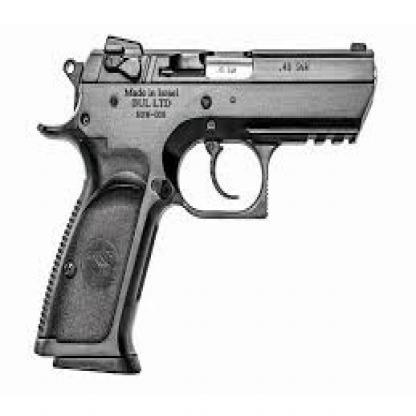Pistol: (31, 32, 374, 373)
